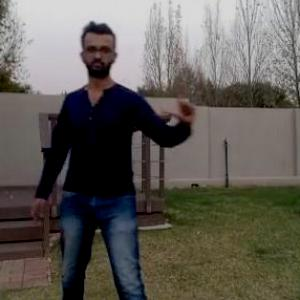land_hand: (162, 83, 206, 128)
